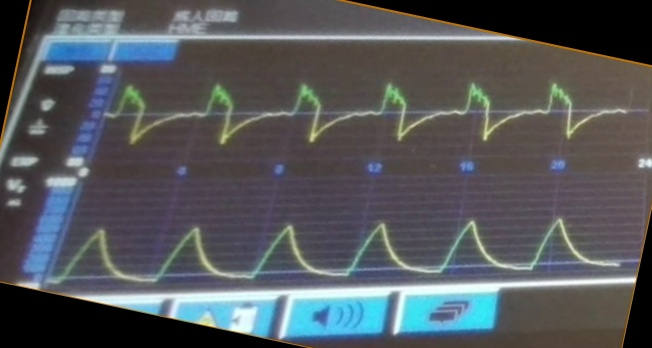Accumulation Flow: (120, 66, 629, 151)
Volume: (77, 199, 608, 284)
